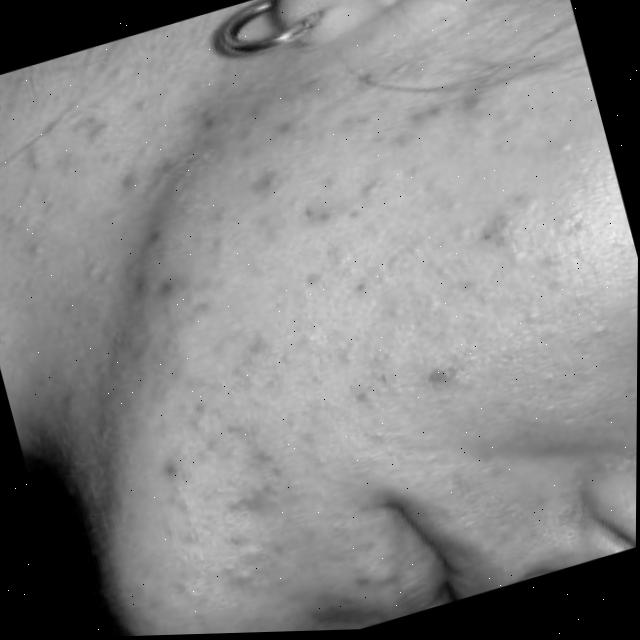Acne: (33, 9, 616, 608)
